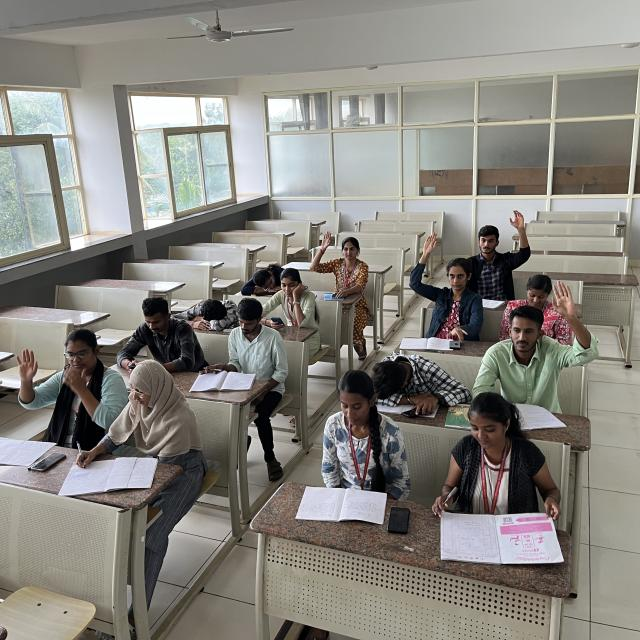Hand Rising: (491, 280, 595, 405), (11, 322, 120, 438), (409, 230, 484, 338), (467, 206, 529, 292), (310, 230, 370, 292)
Reading: (435, 396, 559, 550), (310, 373, 400, 513)
Sleeping: (368, 343, 458, 402), (180, 292, 242, 332), (240, 263, 294, 297)
Using Phone: (112, 295, 196, 375), (499, 273, 557, 345), (264, 265, 317, 329)
Writing: (76, 363, 194, 490)
